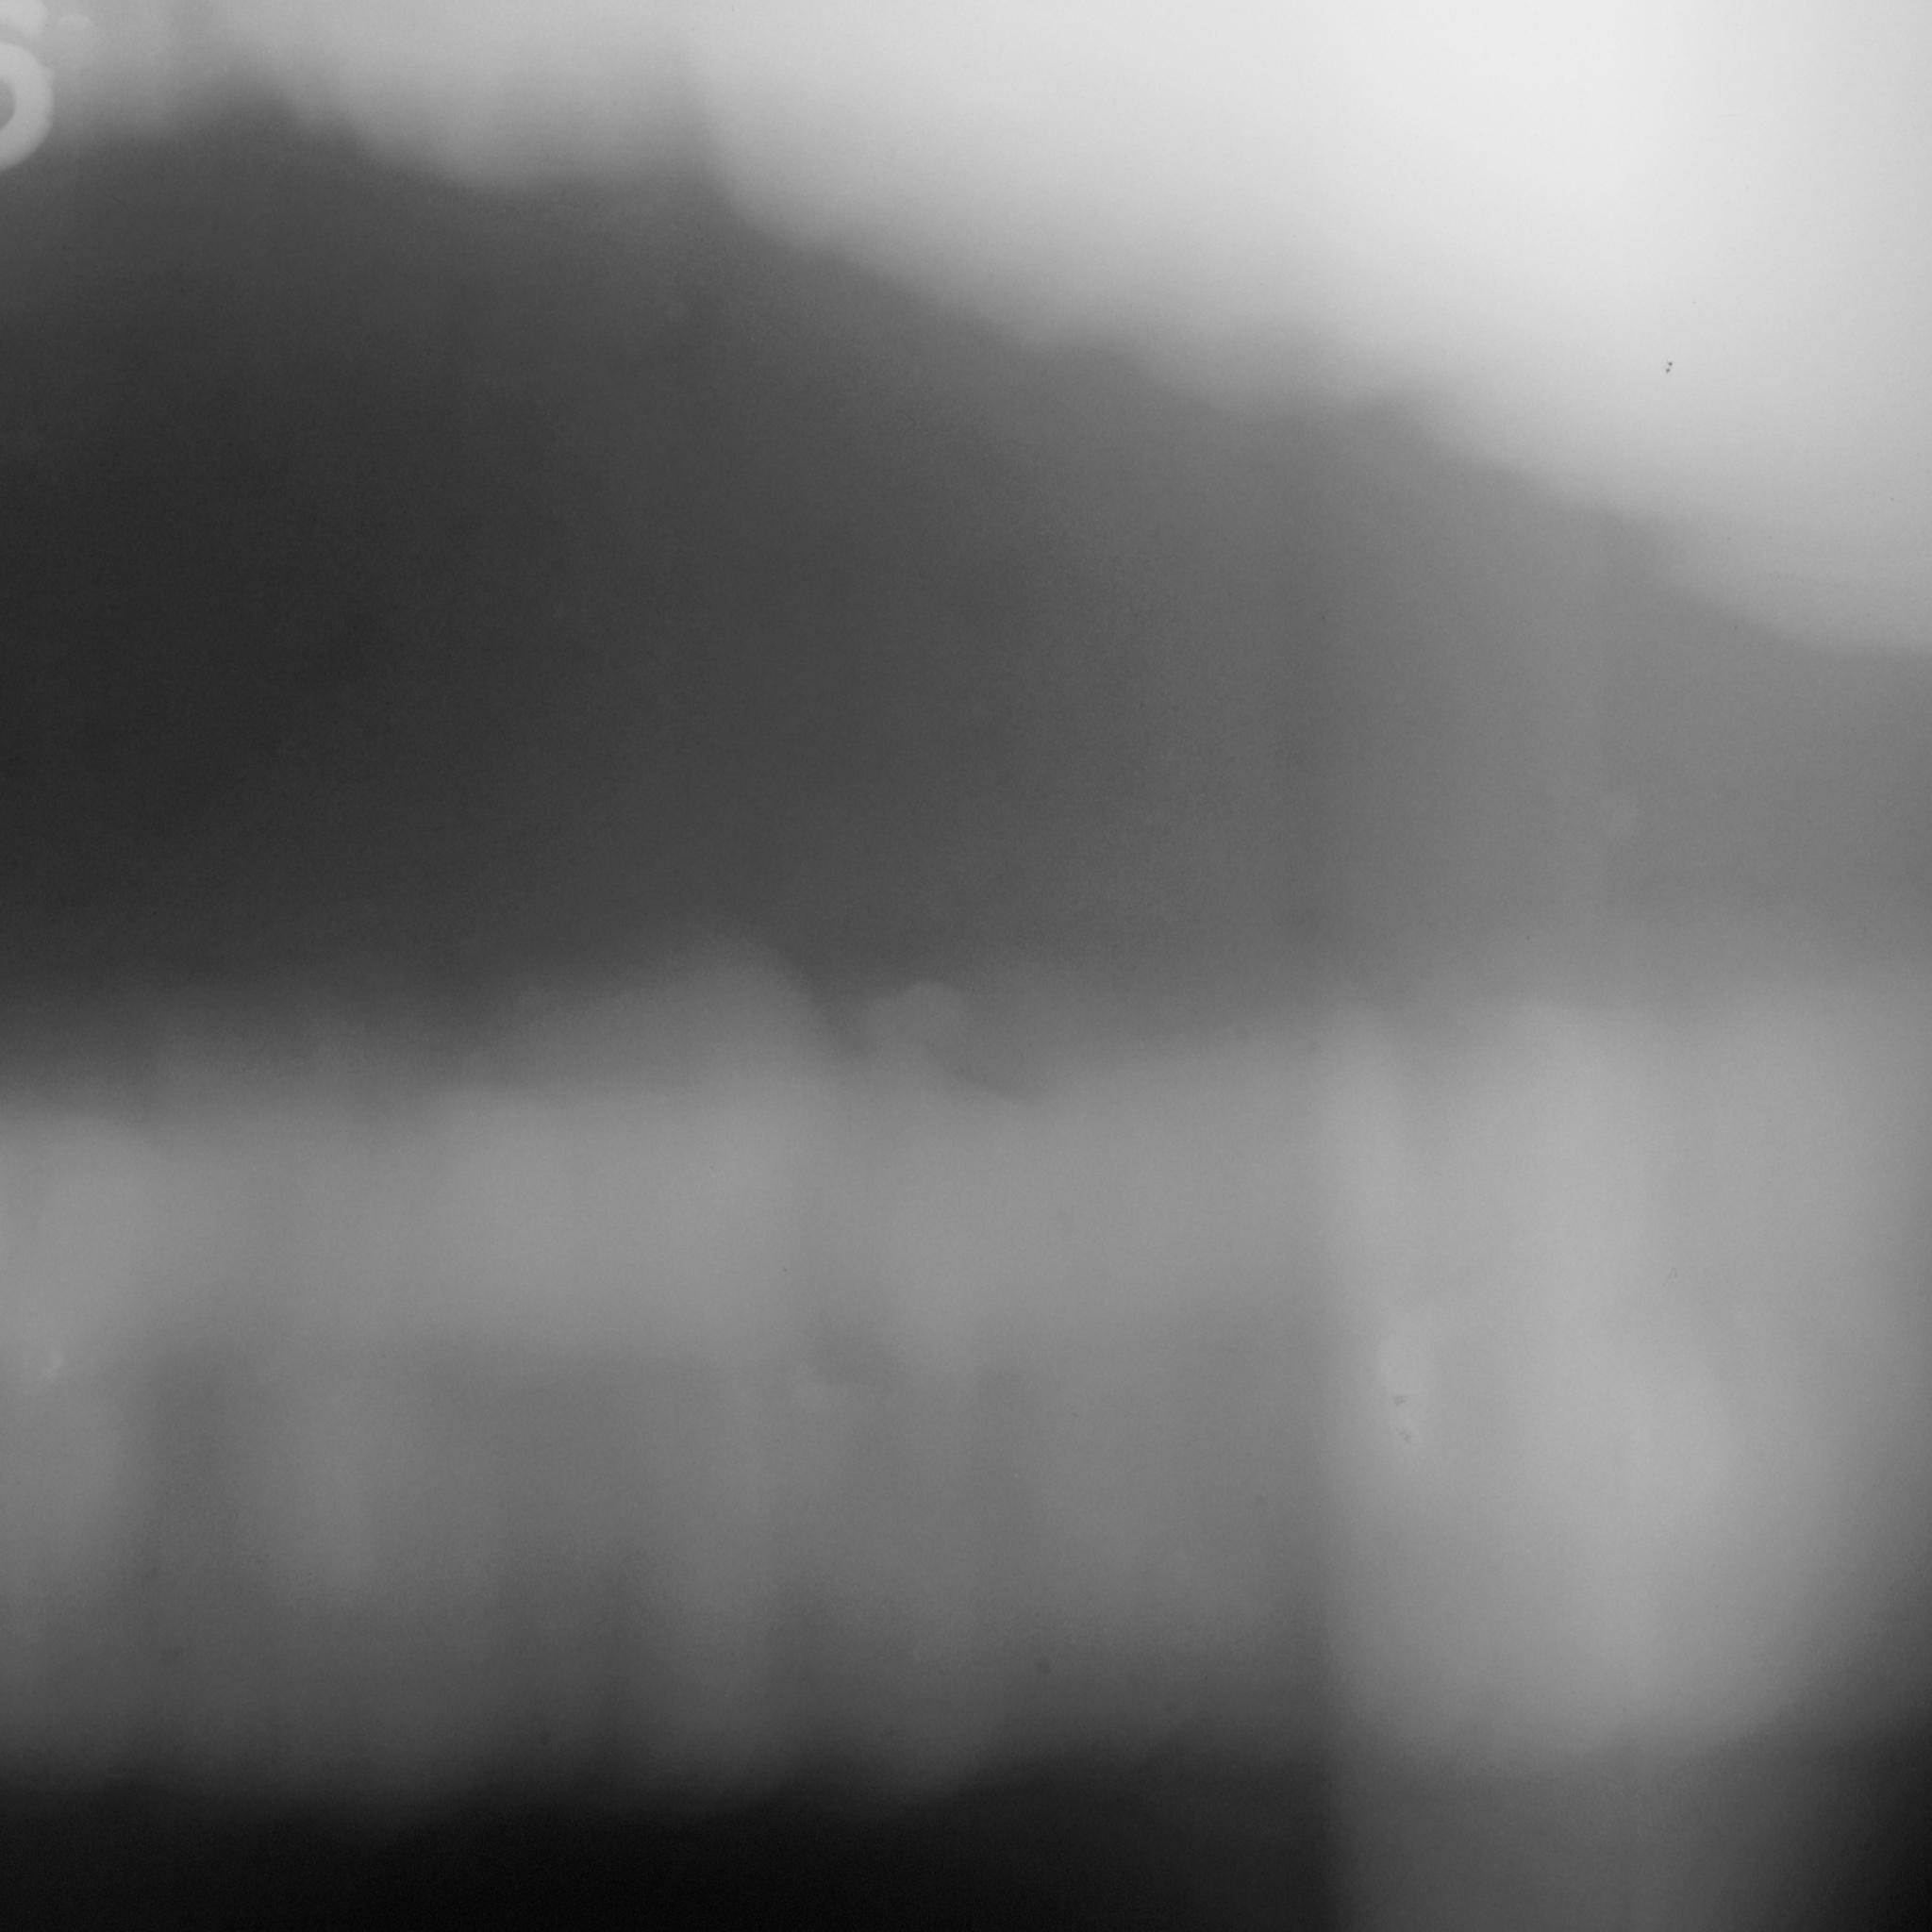PO: (1389, 1422, 1428, 1452), (1027, 1650, 1058, 1679), (1158, 1693, 1189, 1722), (1386, 1388, 1415, 1412), (1660, 357, 1679, 379), (1689, 296, 1701, 308)
